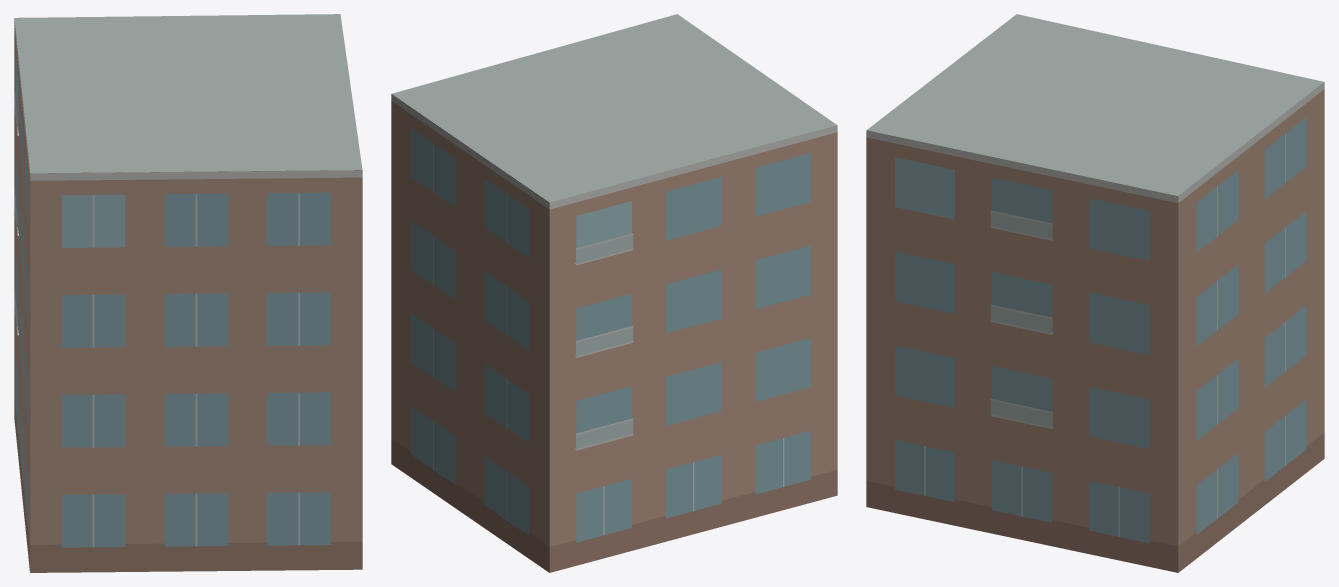
File: survey-upis-32870072.glb
3 renders of one model, left to right at view 1: azimuth 30°, elevation 25°; view 2: azimuth 150°, elevation 25°; view 3: azimuth 270°, elevation 25°, orthographic. The views are drawn at different scales.
Visible parts, largest first — view 1: survey-upis-32870072.tmp; view 2: survey-upis-32870072.tmp; view 3: survey-upis-32870072.tmp.
Part boxes in pixels (left/top/right/bottom): survey-upis-32870072.tmp: left=14, top=14, right=362, bottom=572; survey-upis-32870072.tmp: left=391, top=14, right=837, bottom=572; survey-upis-32870072.tmp: left=866, top=14, right=1324, bottom=572.
Bounding box in the file's own units: 13.39 × 12.9 × 14.23.
